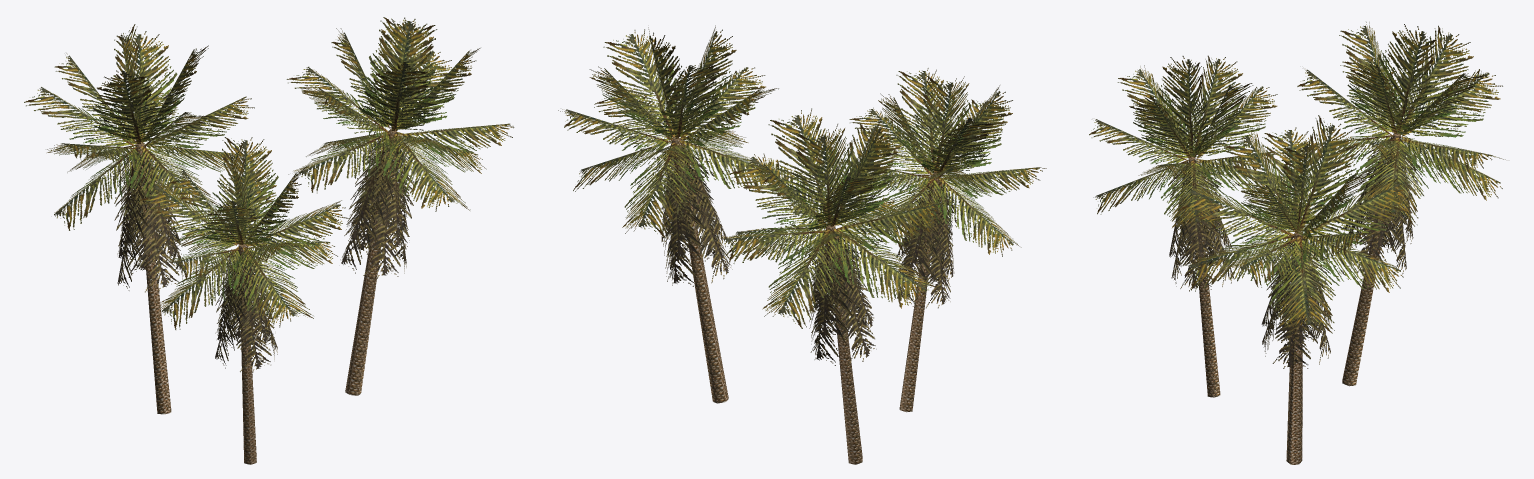
File: TDP03B.glb
The picture shows the model from 3 angles, left to right: view 1: azimuth 30°, elevation 25°; view 2: azimuth 150°, elevation 25°; view 3: azimuth 270°, elevation 25°; orthographic projection.
Parts seen in each view (by area): view 1: _TDP03B; view 2: _TDP03B; view 3: _TDP03B.
Part boxes in pixels (box(x1,y1,x2,y2)): _TDP03B: box(24, 17, 514, 464); _TDP03B: box(558, 25, 1046, 464); _TDP03B: box(1089, 22, 1505, 464).
Bounding box in the file's own units: 17.63 × 14.61 × 15.77.
2 materials, 2 textured.
